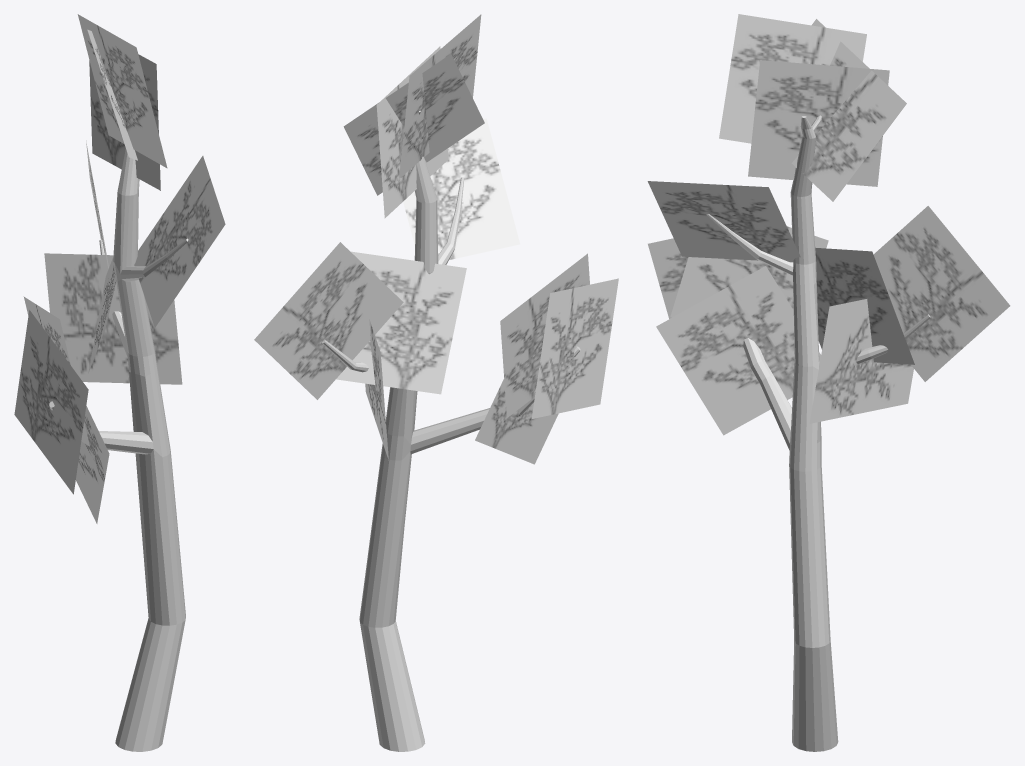
File: ArbolDelgado1.fbx
3 views of the same model, side by side, from view 1: azimuth 30°, elevation 25°; view 2: azimuth 150°, elevation 25°; view 3: azimuth 270°, elevation 25° (orthographic). The views are drawn at different scales.
Parts seen in each view (by area): view 1: Leaf, Tallo; view 2: Leaf, Tallo; view 3: Leaf, Tallo.
Part boxes in pixels (left/top/right/bottom): Leaf: left=14, top=14, right=225, bottom=523; Tallo: left=49, top=148, right=188, bottom=751; Leaf: left=254, top=14, right=618, bottom=464; Tallo: left=322, top=110, right=580, bottom=751; Leaf: left=647, top=14, right=1010, bottom=435; Tallo: left=706, top=115, right=930, bottom=751.
Size of the model in its own units: 0.9079 by 3.37 by 1.56.
Materials: 1 (1 with a texture image).
